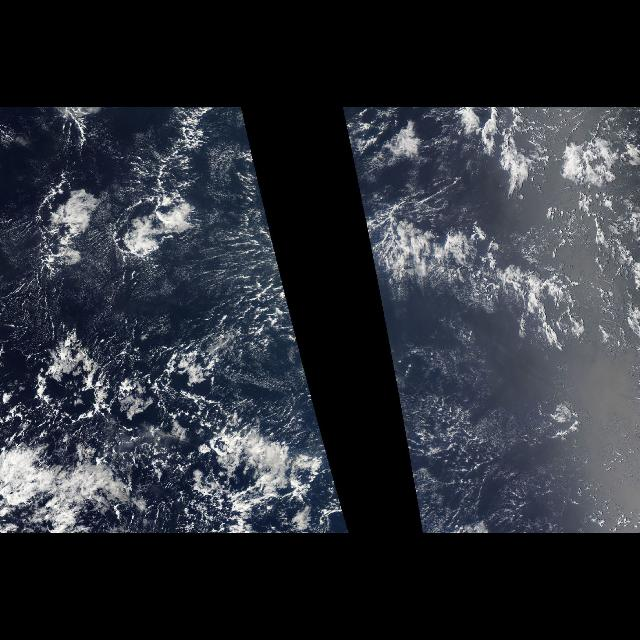Fish: (7, 187, 345, 533), (357, 188, 611, 378)
Flower: (26, 175, 208, 295)
Gravel: (33, 372, 243, 464)
Sugar: (202, 210, 304, 360)
